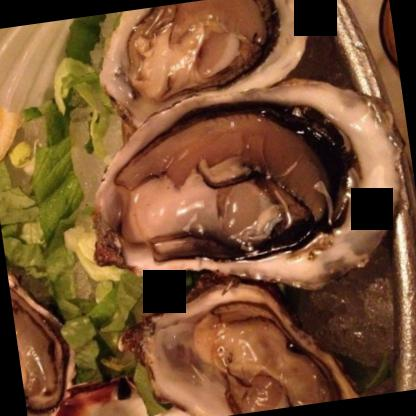oyster: (70, 70, 415, 317), (124, 265, 351, 415), (89, 0, 318, 127)
